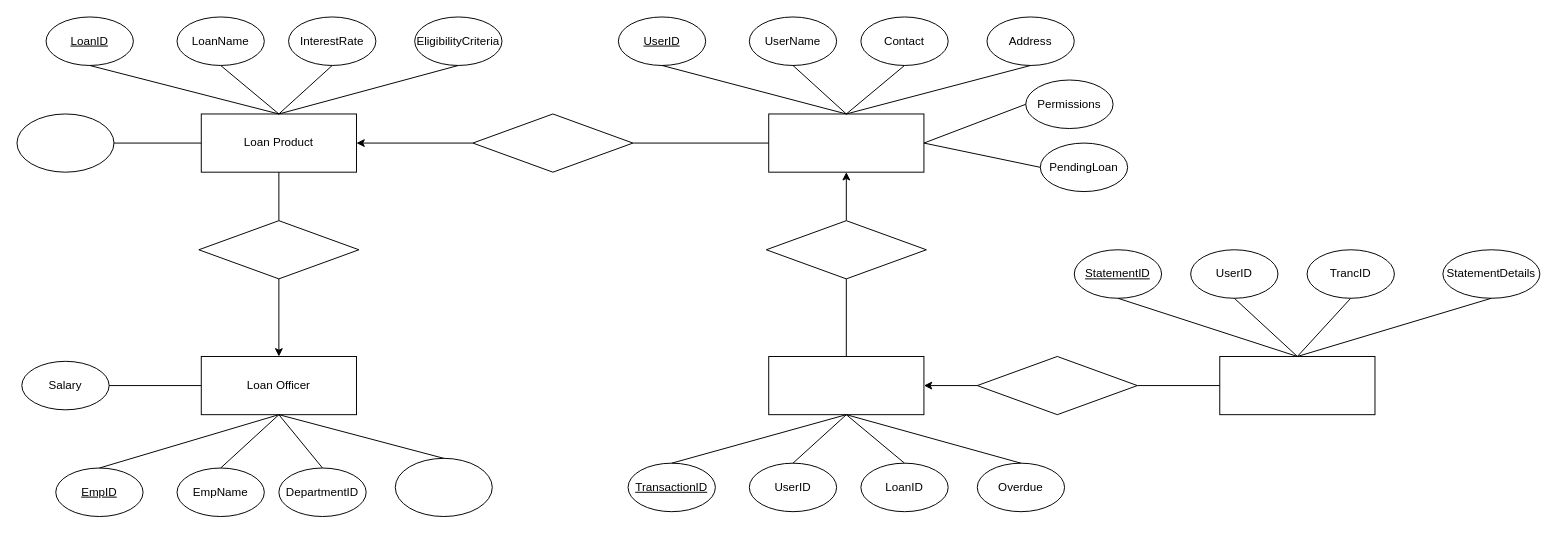
Image size: 1557x534. Some labels were removed from this diagram. Here are the shapes that lost their labels. From the top down, the box of each, then its label:
(16, 113, 114, 172): OfficerID
(768, 113, 924, 172): Users
(768, 356, 924, 415): Repayment
(1219, 356, 1375, 415): Statements
(394, 457, 492, 517): DepartmentName
